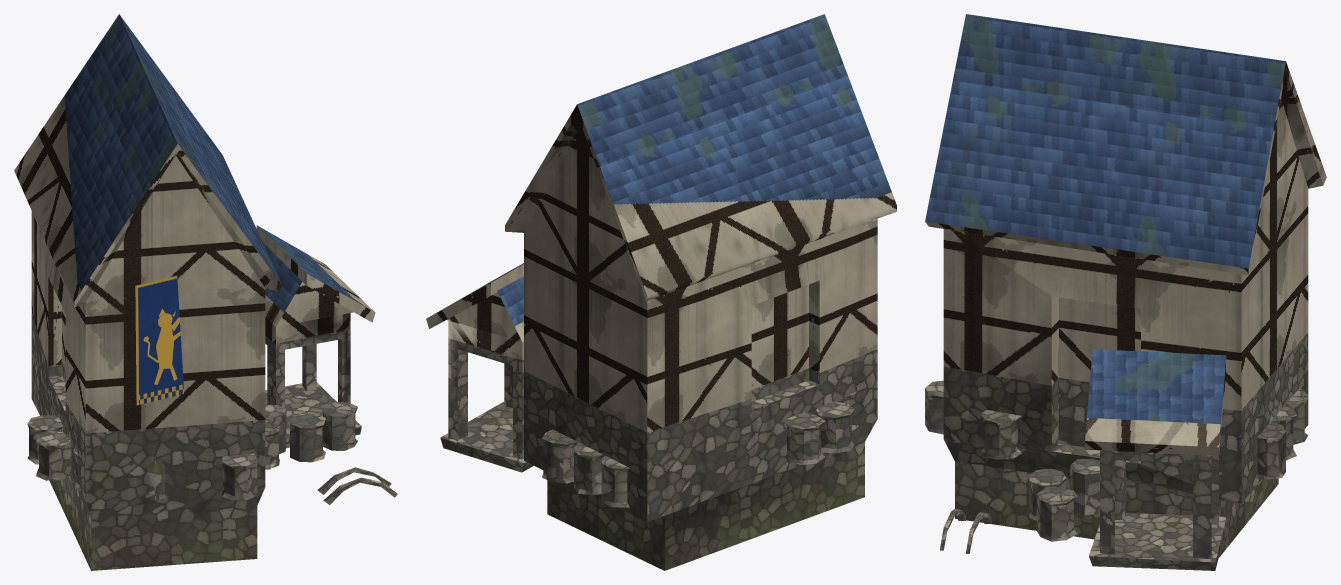
The model's file is house_16_dock_card.glb.
3 views of the same model, side by side, from view 1: azimuth 30°, elevation 25°; view 2: azimuth 150°, elevation 25°; view 3: azimuth 270°, elevation 25° (orthographic). The views are drawn at different scales.
Visible parts, largest first — view 1: house_16_dock_game_card; view 2: house_16_dock_game_card; view 3: house_16_dock_game_card.
Boxes of the visible parts, x1,y1,x2,y2 form: house_16_dock_game_card: [14, 14, 397, 570]; house_16_dock_game_card: [426, 14, 896, 570]; house_16_dock_game_card: [925, 14, 1326, 570].
Size of the model in its own units: 8.64 by 10.11 by 7.91.
1 material, 1 textured.
